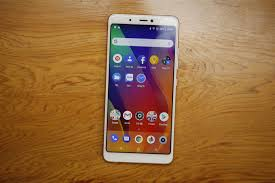vsmart: (104, 12, 179, 169)
